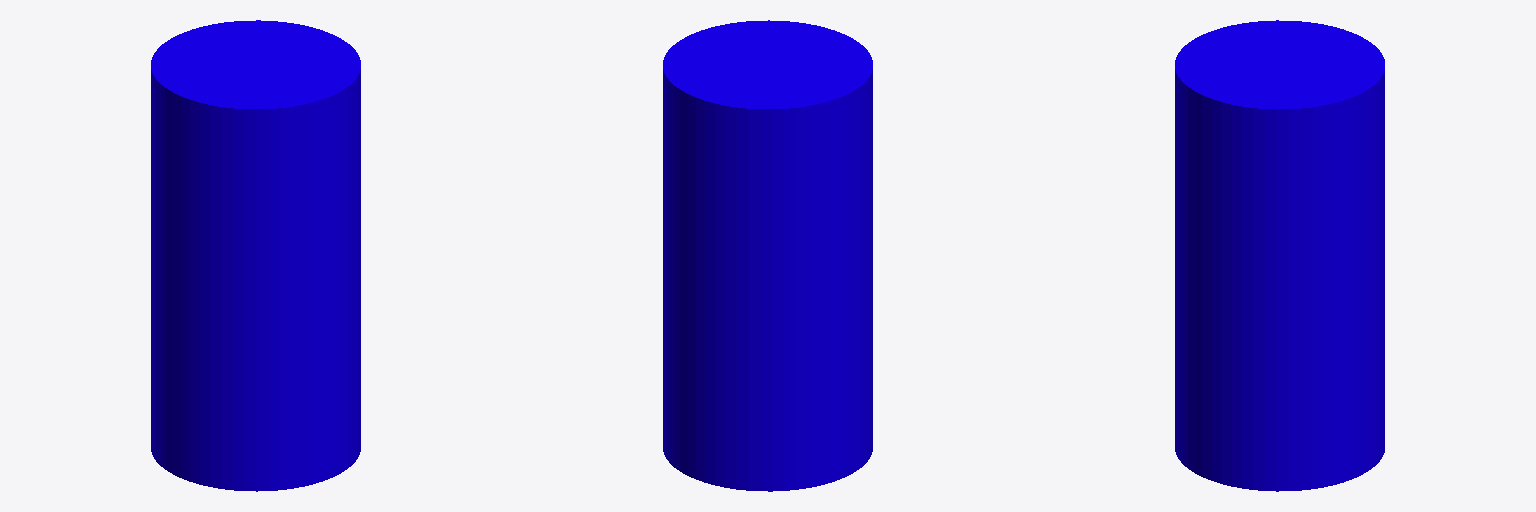
robot.urdf — objects:
<?xml  version="1.0"?>
<robot name ="objects"> 
    <!-- Author: [author]; e-mail:[email redacted]. The urdf file was develped in tongji university.-->

    <!--create  color params-->
    <material name ="LightGrey">
        <color rgba="0.7 0.7 0.7 1.0"/>
    </material>

    <material name ="White">
        <color rgba="1 1 1 1.0"/>
    </material>

    <material name ="Green">
        <color rgba="0.1 0. 1.0 1.0"/>
    </material>

    <material name ="Yellow">
        <color rgba="1. 1. 0. 1.0"/>
    </material>

    <material name ="Orange">
        <color rgba="1. 0.38 0. 1.0"/>
    </material>

    <material name ="Blue">
        <color rgba="0.69 0.87 0.9 1.0"/>
    </material>

    <mass name ="table_mass">
        <mass value="1.0"/>
    </mass>

    <mass name ="cylander_mass">
        <mass value="2.0"/>
    </mass>



    <link  name ="World"/>

    <joint name="cylinder1_to_world" type="floating">
        <parent link="World"/>
        <child link="cylinder1"/>
        <origin xyz="0. 0. 0." rpy="0.0 0.0 0.0"/>
    </joint>

    <link name = "cylinder1">
        <contact>
            <lateral_friction value="0.05"/>
            <rolling_friction value="0.0"/>
            <contact_erp value="1.0"/>
        </contact>
        <visual>
            <origin  xyz="0.0 0.0 0.0" rpy="0.0 0.0 0.0"/>
            <geometry>
                <mesh filename = "meshes/cylinder.dae"/>
            </geometry >
            <material name ="Green"/>
        </visual>
        <collision>
            <origin xyz="0.0 0.0 0.0" rpy="0.0 0.0 0.0"/>
            <geometry>
                <mesh filename ="meshes/cylinder.dae"/>
            </geometry>
        </collision>
        <inertial>
            <mass value = "0.5"/>
            <inertia ixx="1" ixy="0.0" ixz="0.0" iyy="1" iyz="0.0" izz="1"/>
        </inertial>
    </link>
</robot>

--- Facts derived from the render (not from the file) ---
The picture shows the robot from 3 angles, left to right: view 1: azimuth 30°, elevation 25°; view 2: azimuth 150°, elevation 25°; view 3: azimuth 270°, elevation 25°; orthographic projection.
Model objects with 2 links and 1 joints (1 floating), rooted at World, posed all joints at 0.
Links seen in each view (by area): view 1: cylinder1; view 2: cylinder1; view 3: cylinder1.
Boxes of the visible links, x1,y1,x2,y2 form: cylinder1: (151,20,360,491); cylinder1: (663,20,872,491); cylinder1: (1175,20,1384,491).
Bounding box of the posed robot: 0.1 × 0.1 × 0.2 m (x, y, z).
1 mesh visuals loaded from 1 distinct referenced files (1 Collada DAE).